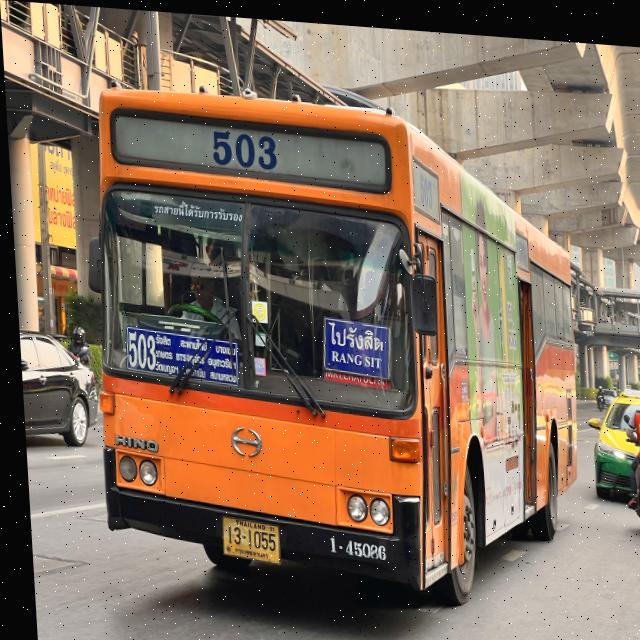BMTA-bus: (64, 53, 593, 625)
Bus Line Number: (199, 122, 288, 172)
Bus Side Number: (317, 525, 386, 559)
Destination Sign: (318, 309, 388, 371)
